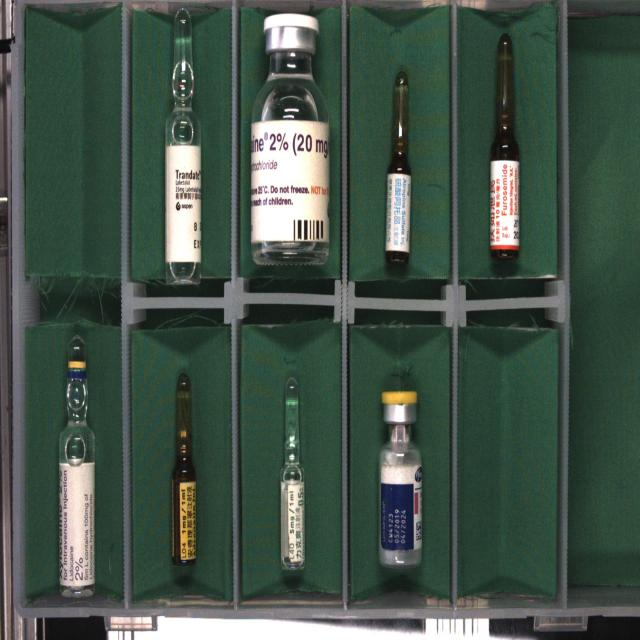Vials: (251, 13, 329, 265), (378, 390, 422, 567)
